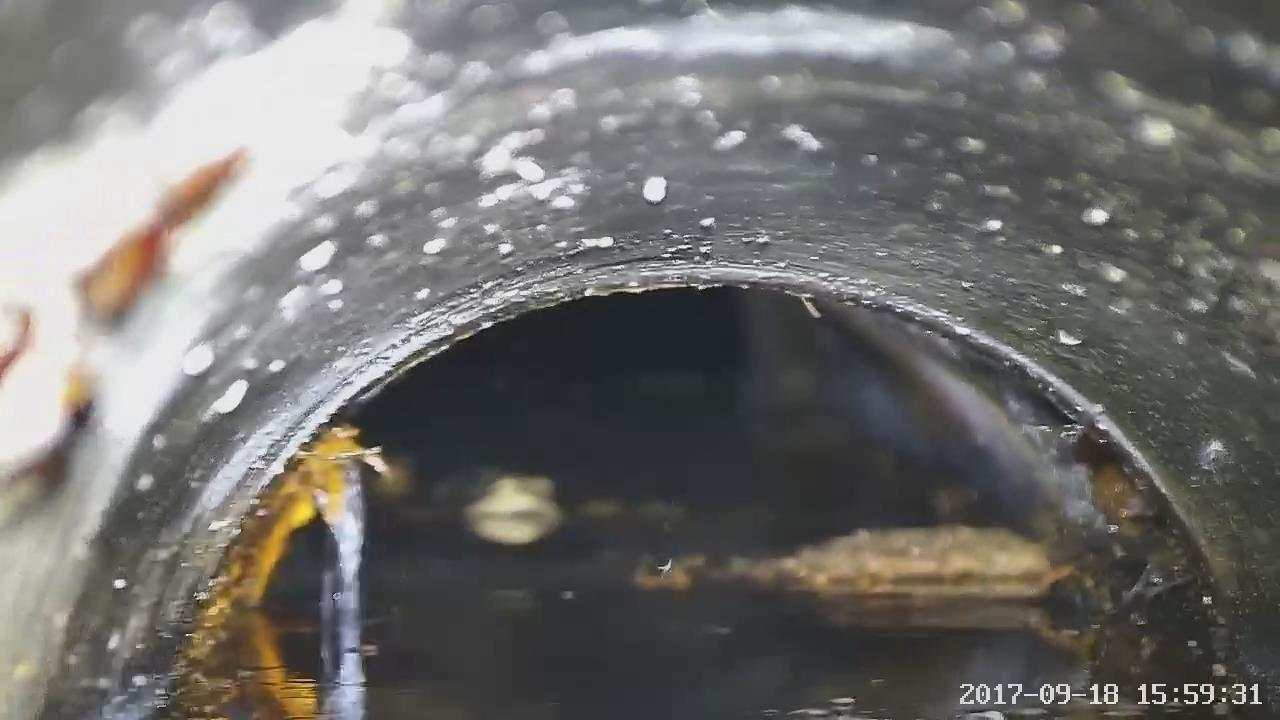SL: (291, 425, 405, 631)
